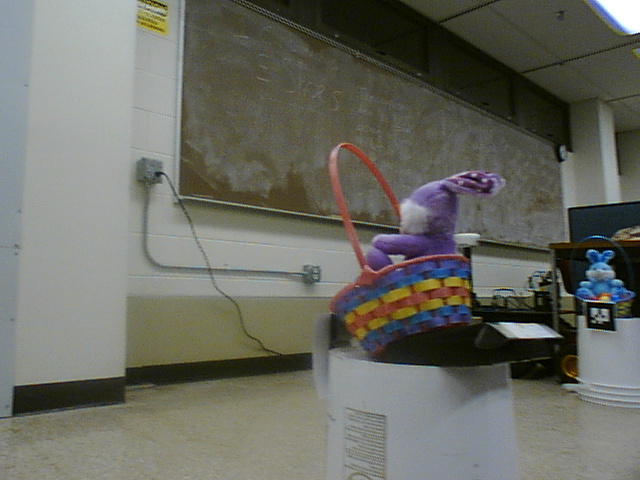bunny: (323, 135, 503, 366), (570, 232, 635, 326)
